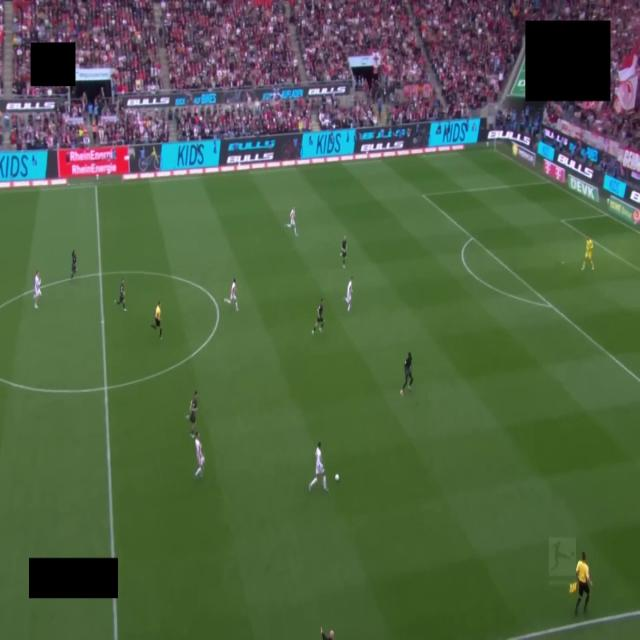ball: (335, 474, 339, 481)
player: (309, 442, 327, 491), (401, 352, 413, 395), (187, 391, 197, 437), (225, 279, 238, 311), (195, 432, 204, 478), (312, 299, 323, 334), (582, 238, 594, 270), (115, 279, 126, 311), (286, 208, 297, 236), (34, 271, 41, 309), (345, 277, 352, 311), (71, 250, 77, 279), (341, 236, 346, 267)
referee: (151, 301, 162, 340)
